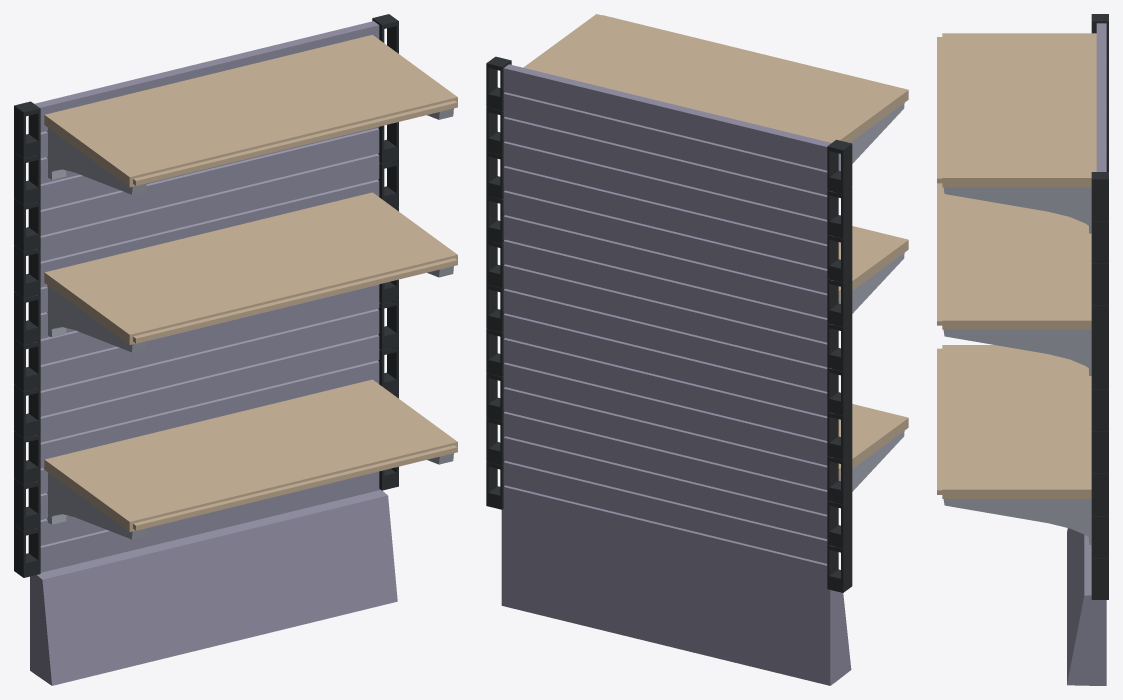
File: SM_shelves_var_01.fbx
3 views of the same model, side by side, from view 1: azimuth 30°, elevation 25°; view 2: azimuth 150°, elevation 25°; view 3: azimuth 270°, elevation 25° (orthographic). The views are drawn at different scales.
Parts seen in each view (by area): view 1: shelves_var_01; view 2: shelves_var_01; view 3: shelves_var_01.
Boxes of the visible parts, x1=… form: shelves_var_01: x1=14, y1=14, x2=457, y2=685; shelves_var_01: x1=486, y1=14, x2=908, y2=685; shelves_var_01: x1=937, y1=14, x2=1108, y2=685.
Bounding box in the file's own units: 153 × 222 × 67.33.
